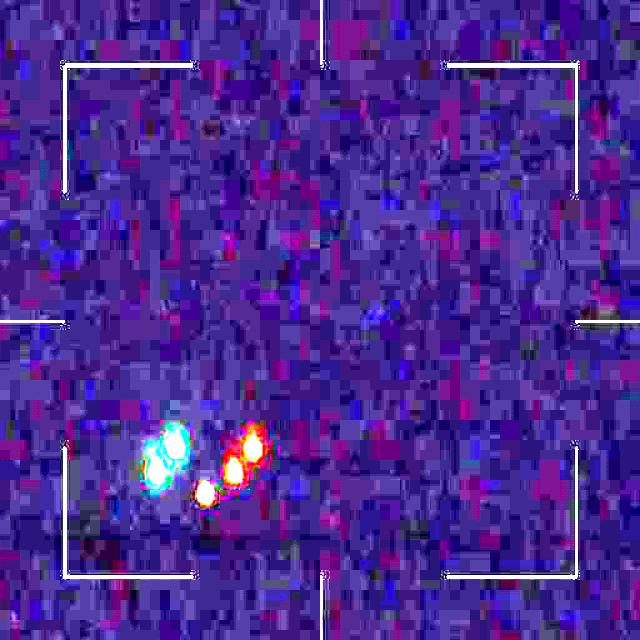bird: (142, 425, 262, 509)
